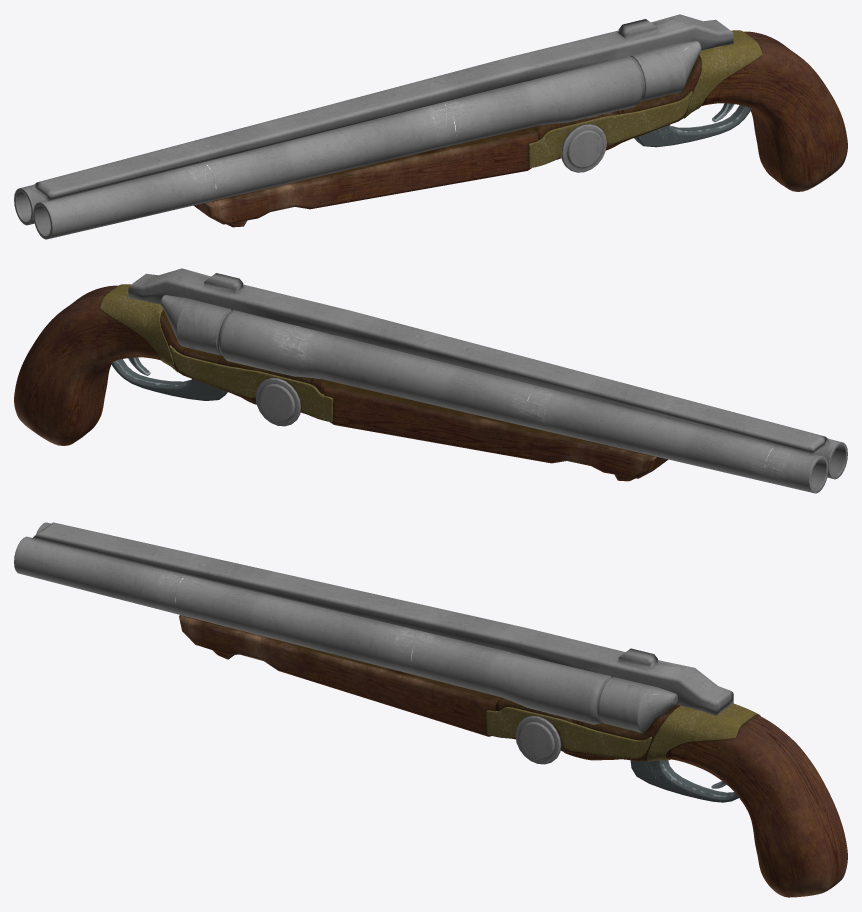
File: sawed_off.glb
The picture shows the model from 3 angles, top to bottom: view 1: azimuth 30°, elevation 25°; view 2: azimuth 150°, elevation 25°; view 3: azimuth 330°, elevation 25°; orthographic projection.
Parts seen in each view (by area): view 1: shotgunobjcleanermaterialmergergles; view 2: shotgunobjcleanermaterialmergergles; view 3: shotgunobjcleanermaterialmergergles.
Part boxes in pixels (x1,y1,x2,y2): shotgunobjcleanermaterialmergergles: [14, 14, 847, 239]; shotgunobjcleanermaterialmergergles: [14, 268, 847, 493]; shotgunobjcleanermaterialmergergles: [14, 522, 847, 897].
Size of the model in its own units: 40.96 by 9.66 by 4.59.
1 material, 1 textured.
